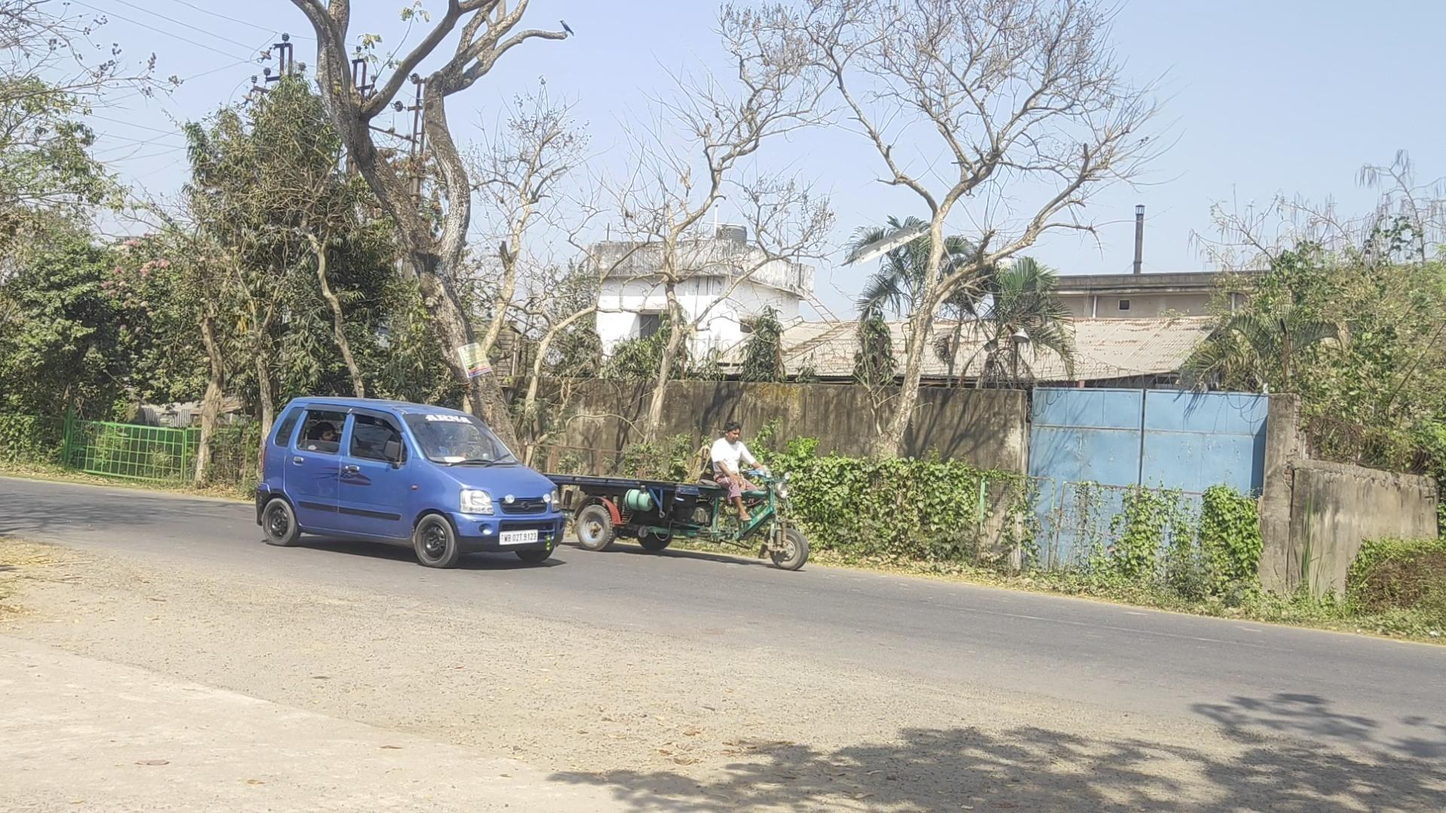car: (255, 395, 567, 569)
